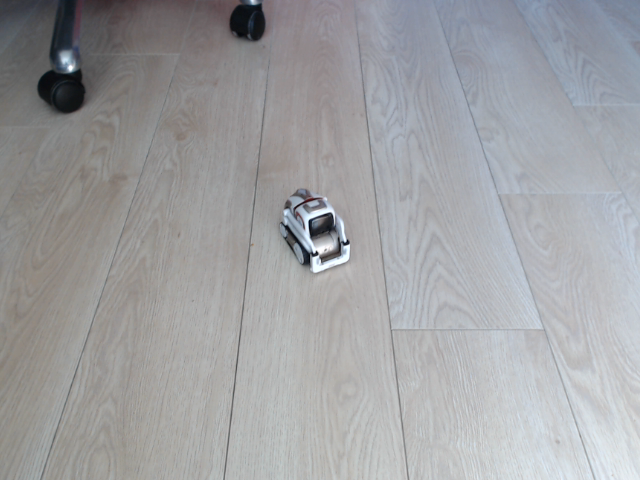cozmo: (277, 188, 353, 274)
